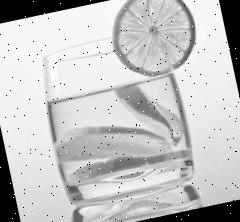glass: (36, 26, 205, 210)
